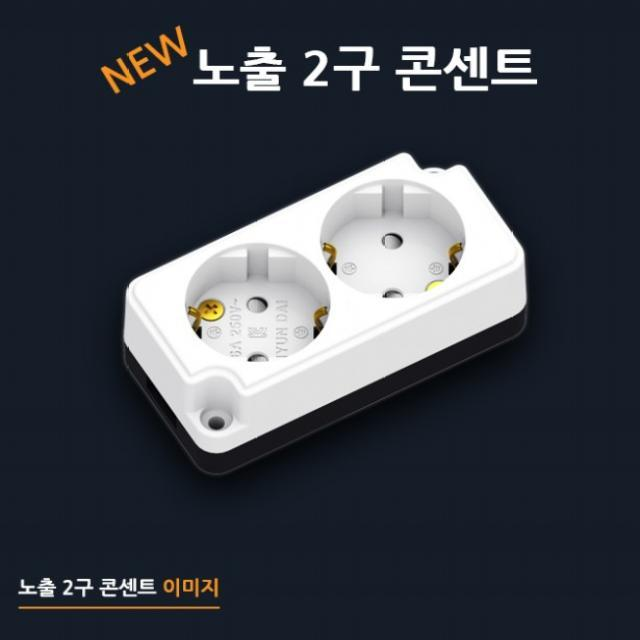typeb: (109, 138, 541, 448)
